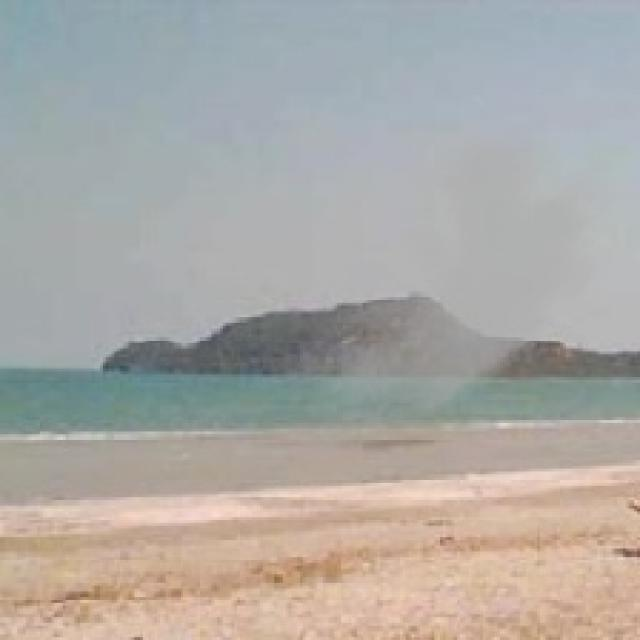smoke: (240, 100, 629, 451)
